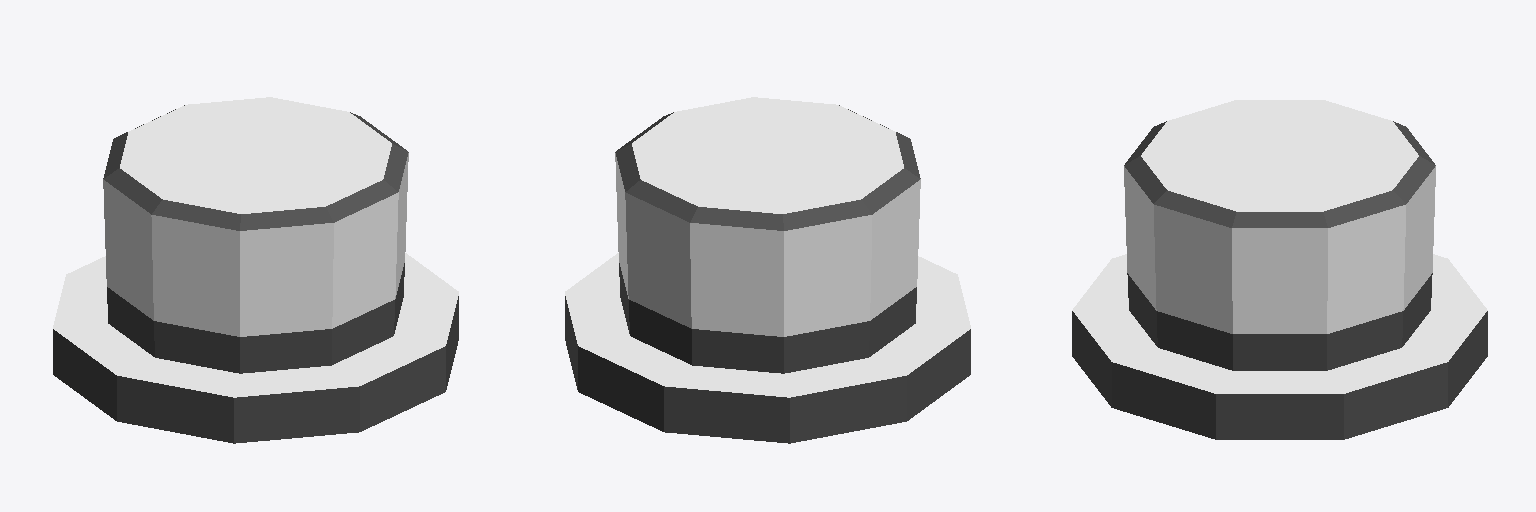
The model's file is hat.obj.
3 views of the same model, side by side, from view 1: azimuth 30°, elevation 25°; view 2: azimuth 150°, elevation 25°; view 3: azimuth 270°, elevation 25° (orthographic).
Visible parts, largest first — view 1: Cube; view 2: Cube; view 3: Cube.
Part boxes in pixels (x1,y1,x2,y2): Cube: (53,97,458,443); Cube: (565,97,970,443); Cube: (1072,100,1487,439).
Bounding box in the file's own units: 0.9511 × 0.5322 × 1.